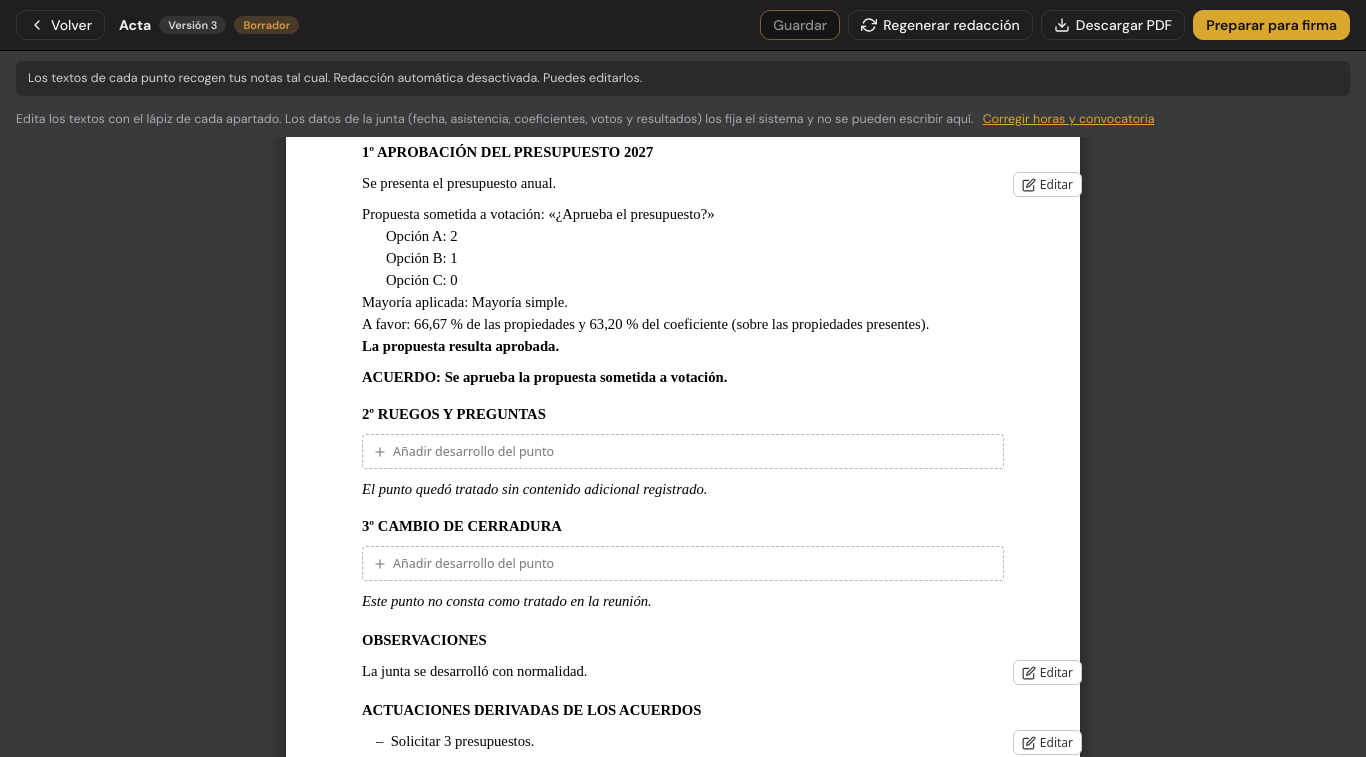
ActaViewerComponent — visor documental del acta › edición por bloques › un hueco vacío permite escribir el desarrollo de un punto que no lo tenía
(page scrolled)
Click the 1st button "Añadir desarrollo del punto".
click(474, 452)  # box [362,434,1004,469]
(page scrolled)
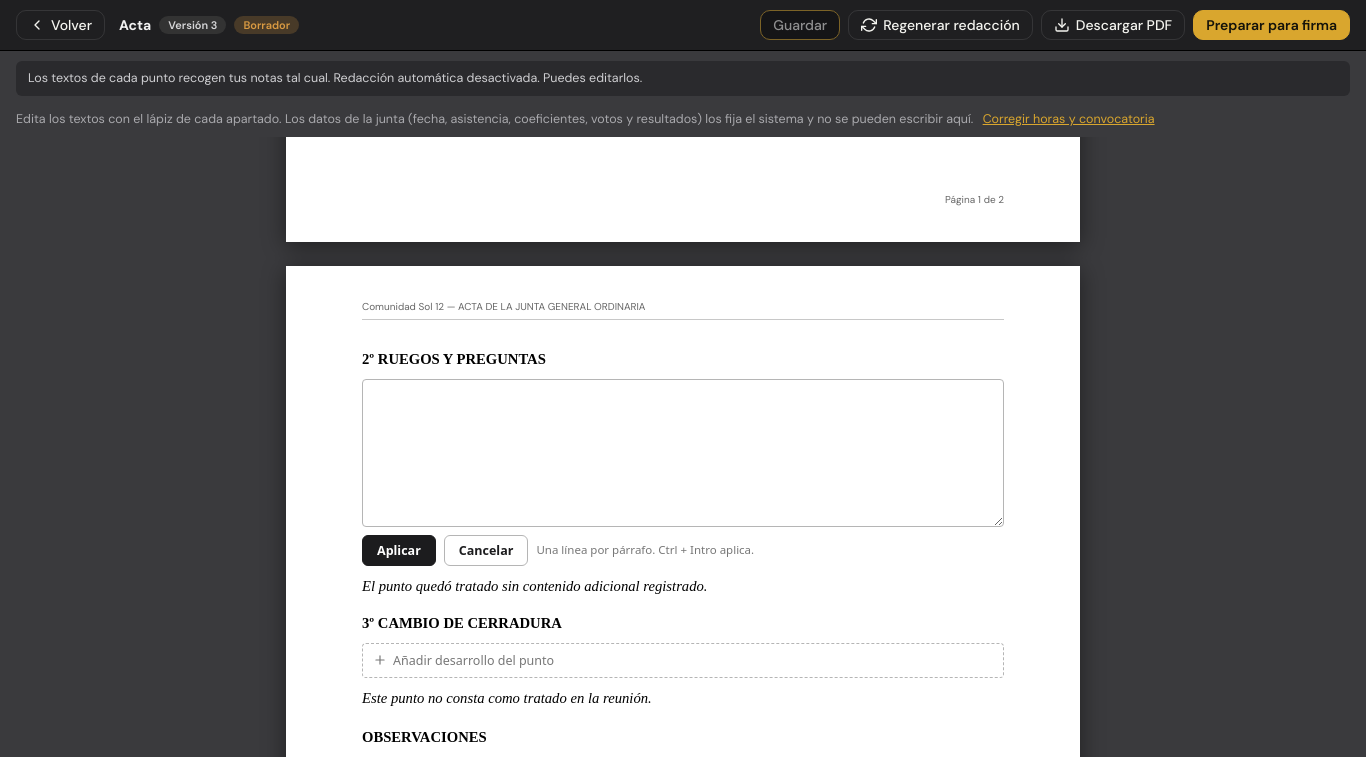
Result: the text box named "Texto del acta" is shown at [362,378,1004,526]
